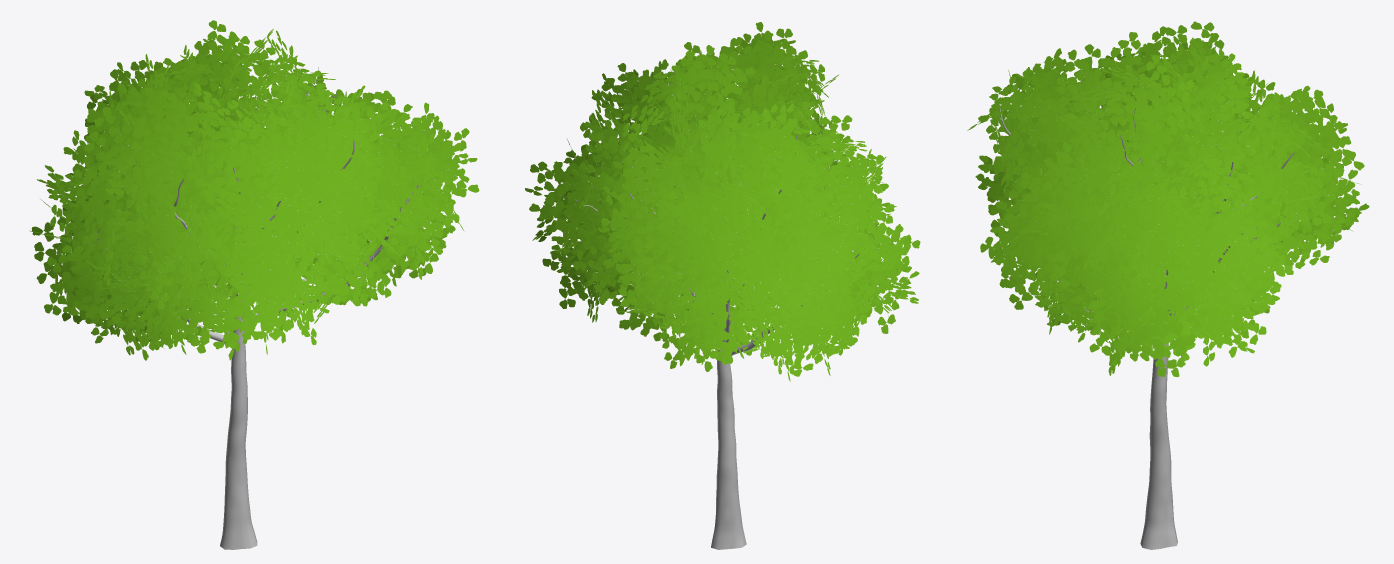
The model's file is tree_stylized.fbx.
The picture shows the model from 3 angles, left to right: view 1: azimuth 30°, elevation 25°; view 2: azimuth 150°, elevation 25°; view 3: azimuth 270°, elevation 25°; orthographic projection. The views are drawn at different scales.
Parts seen in each view (by area): view 1: Leaves, BigTree; view 2: Leaves, BigTree; view 3: Leaves, BigTree.
Boxes of the visible parts, left/top/right/bottom form: Leaves: left=29, top=20, right=479, bottom=360; BigTree: left=97, top=67, right=418, bottom=549; Leaves: left=525, top=22, right=920, bottom=381; BigTree: left=575, top=69, right=862, bottom=549; Leaves: left=967, top=21, right=1369, bottom=377; BigTree: left=999, top=84, right=1294, bottom=549.
Size of the model in its own units: 85.73 by 106 by 78.49.
